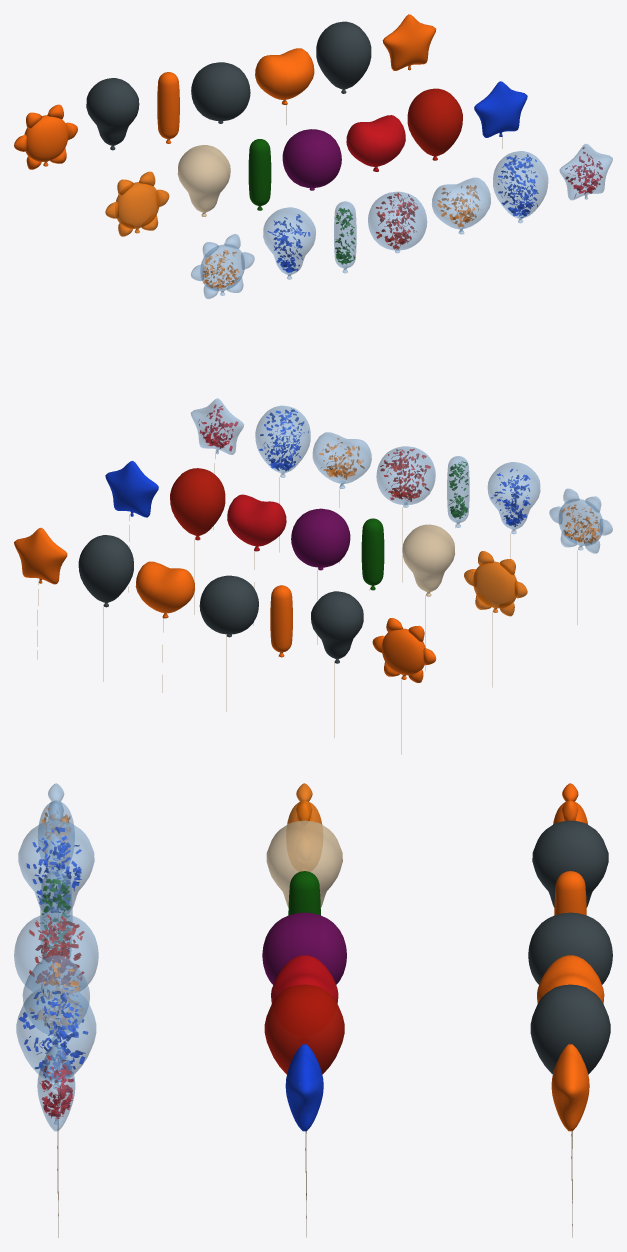
The picture shows the model from 3 angles, top to bottom: view 1: azimuth 30°, elevation 25°; view 2: azimuth 150°, elevation 25°; view 3: azimuth 270°, elevation 25°; orthographic projection. The views are drawn at different scales.
Visible parts, largest first — view 1: huitugou_5007_10, huitugou_5007_09, huitugou_5007_06, huitugou_5007_04, huitugou_5007_05, huitugou_5007_11, huitugou_5007_08, huitugou_5007_01, huitugou_5007_02, huitugou_5007_07; view 2: huitugou_5007_10, huitugou_5007_09, huitugou_5007_06, huitugou_5007_04, huitugou_5007_05, huitugou_5007_11, huitugou_5007_08, huitugou_5007_01, huitugou_5007_02, huitugou_5007_07, huitugou_5007_03; view 3: huitugou_5007_10, huitugou_5007_09, huitugou_5007_04, huitugou_5007_06, huitugou_5007_05, huitugou_5007_02, huitugou_5007_01, huitugou_5007_08, huitugou_5007_07, huitugou_5007_11.
Boxes of the visible parts, <box> form: huitugou_5007_10: <box>191,144,612,298</box>; huitugou_5007_09: <box>86,21,371,150</box>; huitugou_5007_06: <box>14,14,436,169</box>; huitugou_5007_04: <box>376,88,462,249</box>; huitugou_5007_05: <box>267,81,538,272</box>; huitugou_5007_11: <box>105,171,481,288</box>; huitugou_5007_08: <box>346,115,602,197</box>; huitugou_5007_01: <box>282,129,341,190</box>; huitugou_5007_02: <box>177,145,230,216</box>; huitugou_5007_07: <box>248,139,355,264</box>; huitugou_5007_10: <box>191,398,612,553</box>; huitugou_5007_09: <box>78,535,363,663</box>; huitugou_5007_06: <box>14,527,436,682</box>; huitugou_5007_04: <box>170,448,430,540</box>; huitugou_5007_05: <box>105,408,530,526</box>; huitugou_5007_11: <box>319,438,599,616</box>; huitugou_5007_08: <box>199,404,286,551</box>; huitugou_5007_01: <box>291,508,350,570</box>; huitugou_5007_02: <box>402,524,455,596</box>; huitugou_5007_07: <box>361,461,468,590</box>; huitugou_5007_03: <box>37,450,582,754</box>; huitugou_5007_10: <box>14,783,98,1131</box>; huitugou_5007_09: <box>528,820,612,1074</box>; huitugou_5007_04: <box>29,915,344,1074</box>; huitugou_5007_06: <box>537,783,604,1131</box>; huitugou_5007_05: <box>19,827,323,1131</box>; huitugou_5007_02: <box>266,820,342,907</box>; huitugou_5007_01: <box>262,912,346,984</box>; huitugou_5007_08: <box>39,955,338,1118</box>; huitugou_5007_07: <box>41,871,320,956</box>; huitugou_5007_11: <box>29,783,322,1033</box>.
Size of the model in its own units: 82.12 by 28.16 by 69.5.
